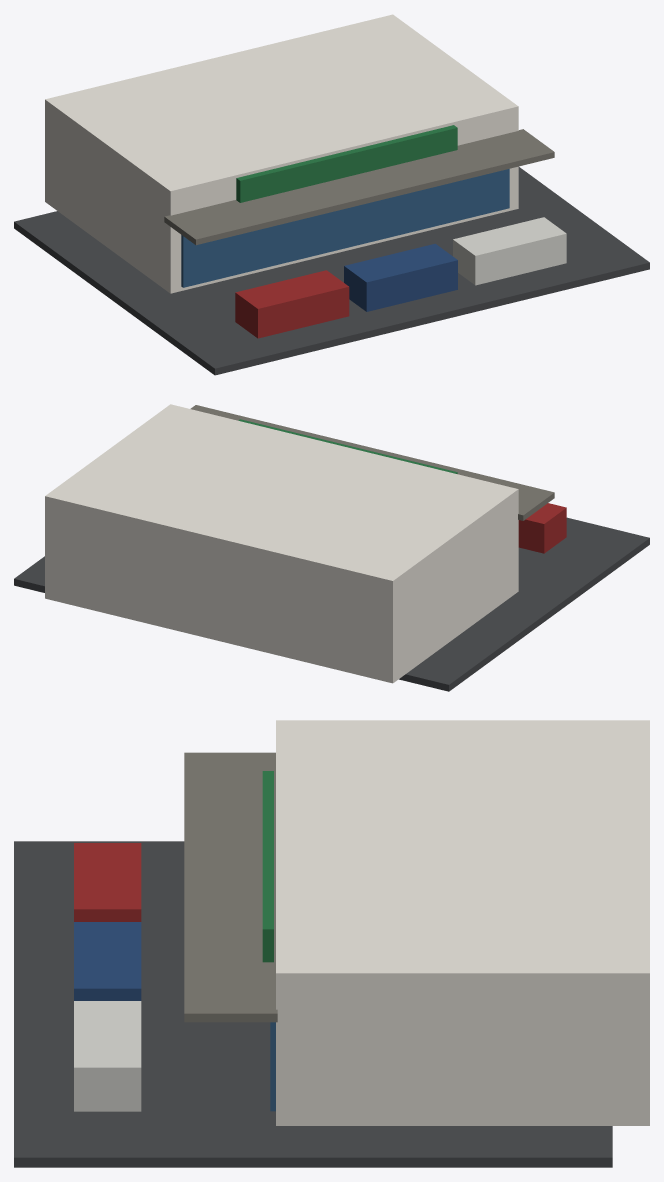
File: shop.glb
The picture shows the model from 3 angles, top to bottom: view 1: azimuth 30°, elevation 25°; view 2: azimuth 150°, elevation 25°; view 3: azimuth 270°, elevation 25°; orthographic projection. The views are drawn at different scales.
Visible parts, largest first — view 1: Shop; view 2: Shop; view 3: Shop.
Part boxes in pixels (x1,y1,x2,y2): Shop: [14, 14, 649, 375]; Shop: [14, 404, 649, 691]; Shop: [14, 720, 649, 1167].
Bounding box in the file's own units: 20 × 4.8 × 17.
